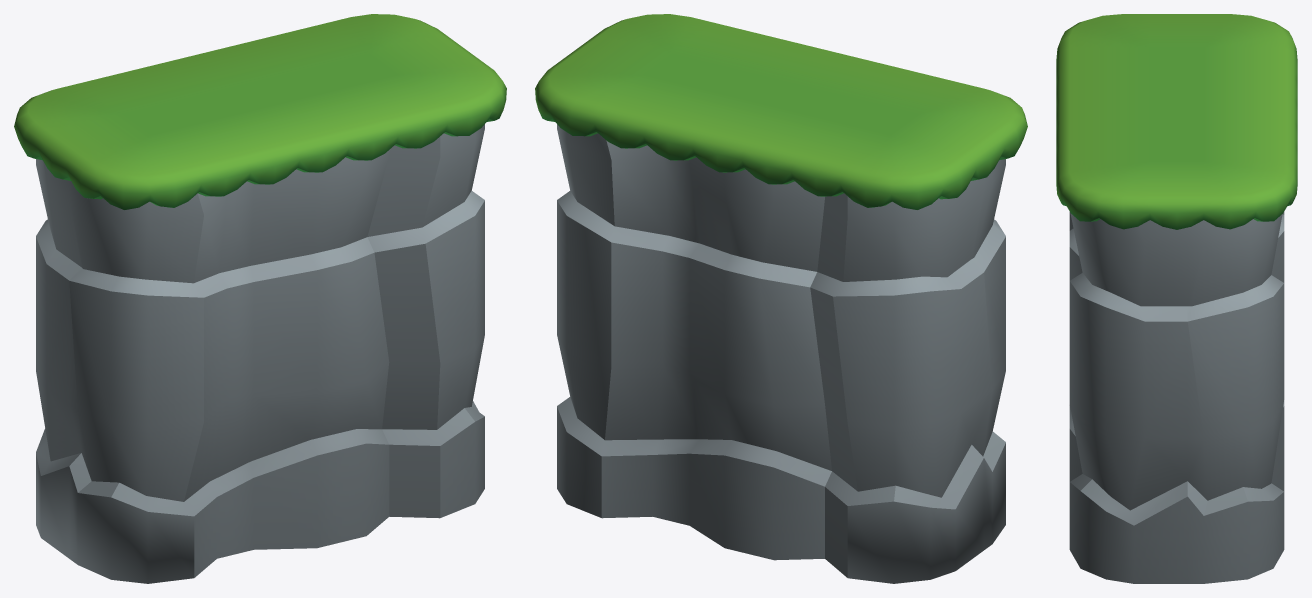
Rendered from Hill_8x4x8_Color1.gltf.
3 renders of one model, left to right at view 1: azimuth 30°, elevation 25°; view 2: azimuth 150°, elevation 25°; view 3: azimuth 270°, elevation 25°, orthographic. The views are drawn at different scales.
Visible parts, largest first — view 1: Hill_8x4x8_Color1; view 2: Hill_8x4x8_Color1; view 3: Hill_8x4x8_Color1.
Boxes of the visible parts, box(x1,y1,x2,y2) form: Hill_8x4x8_Color1: box(14, 14, 506, 583); Hill_8x4x8_Color1: box(535, 14, 1027, 583); Hill_8x4x8_Color1: box(1056, 14, 1297, 583).
Bounding box in the file's own units: 8.5 × 8 × 4.5.
Materials: 1 (1 with a texture image).
